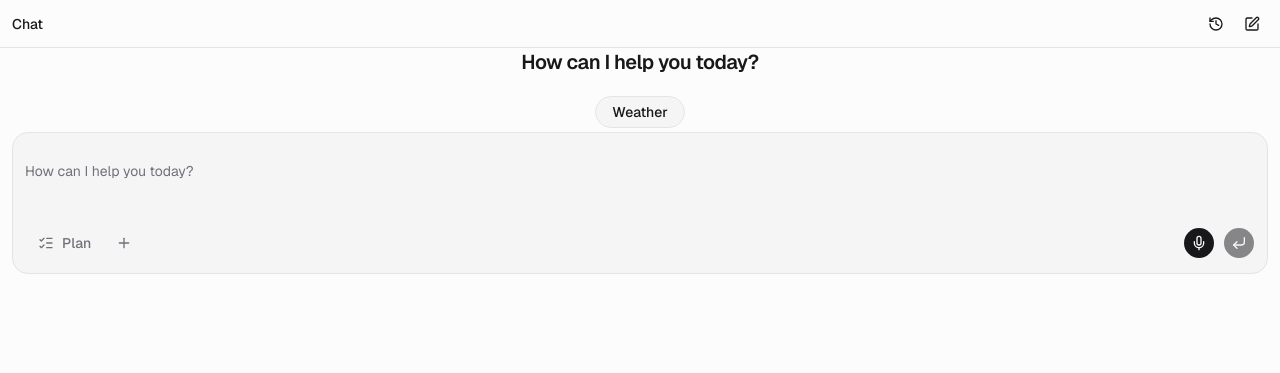
Test: ChatPanel — the parts that keep a run moving › never hides a parked approval behind the greeting
The image size is (1280, 373).
Click the button "Weather" at (640, 112), box [595, 96, 685, 128]
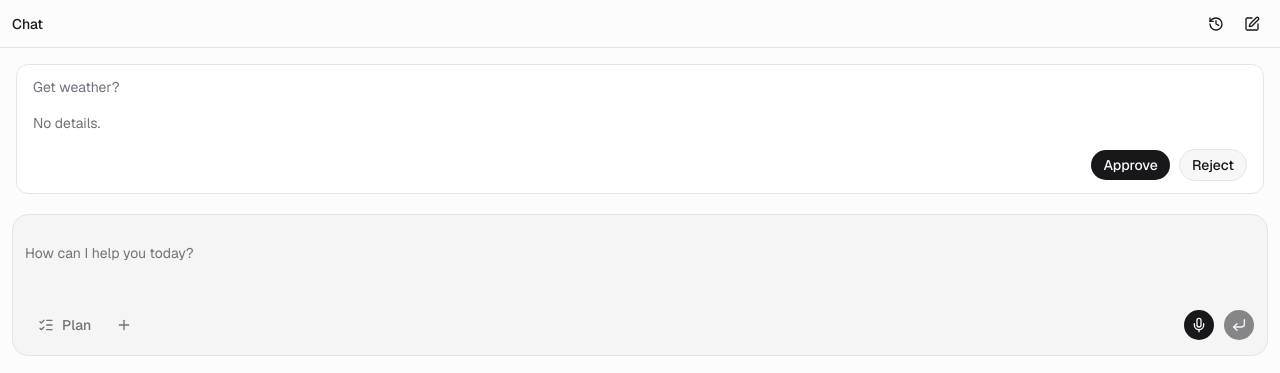
Expected: the text "Get weather?" is shown, [33, 78, 120, 96]
